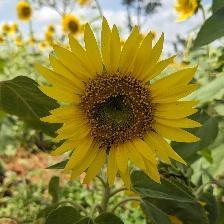sunflower: (32, 12, 206, 194)
